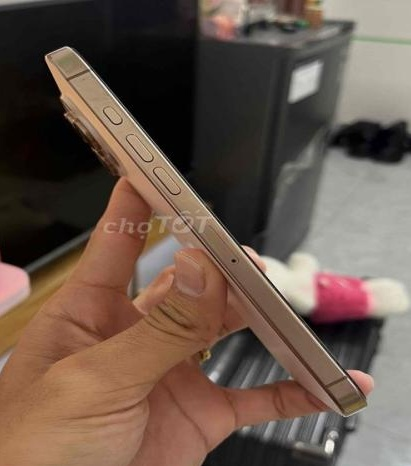scratch: (81, 86, 130, 115), (51, 57, 73, 77)
